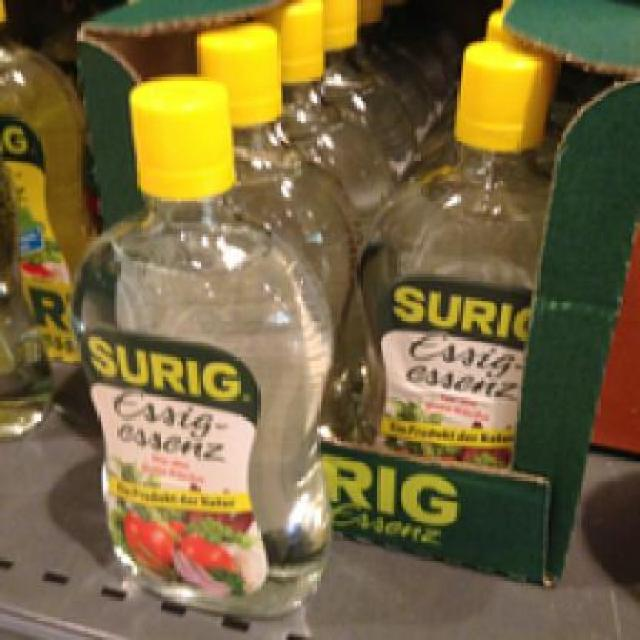Vinegar: (62, 75, 328, 614), (369, 39, 580, 472)
